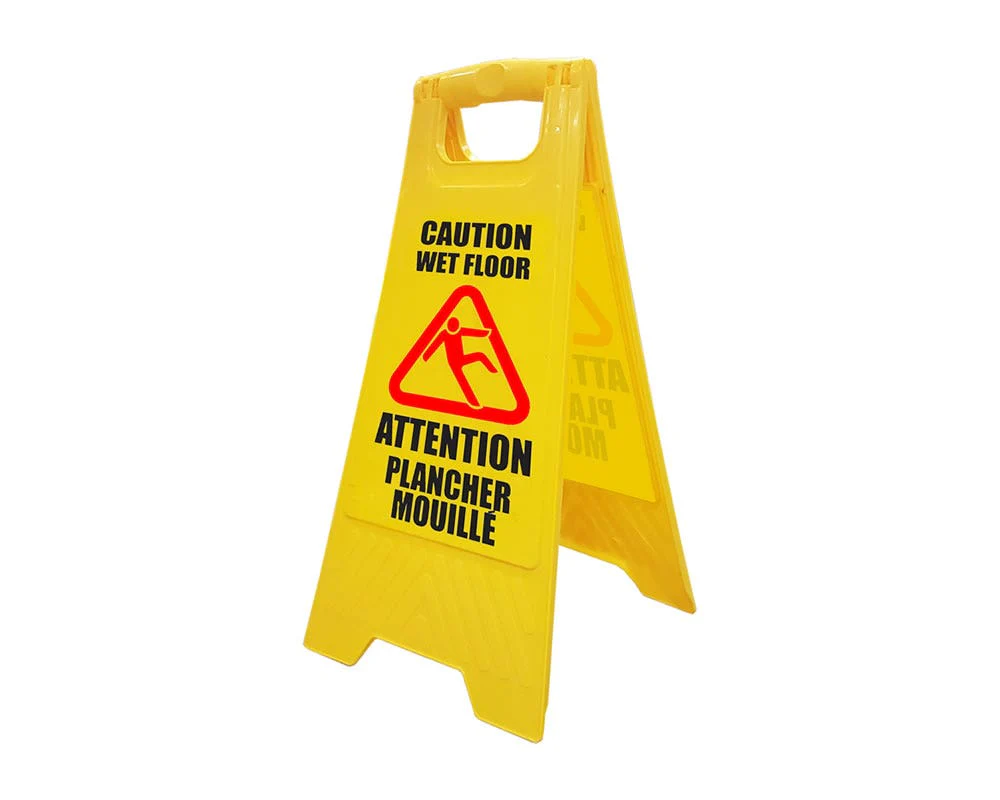wet caution sign: (268, 94, 783, 764)
